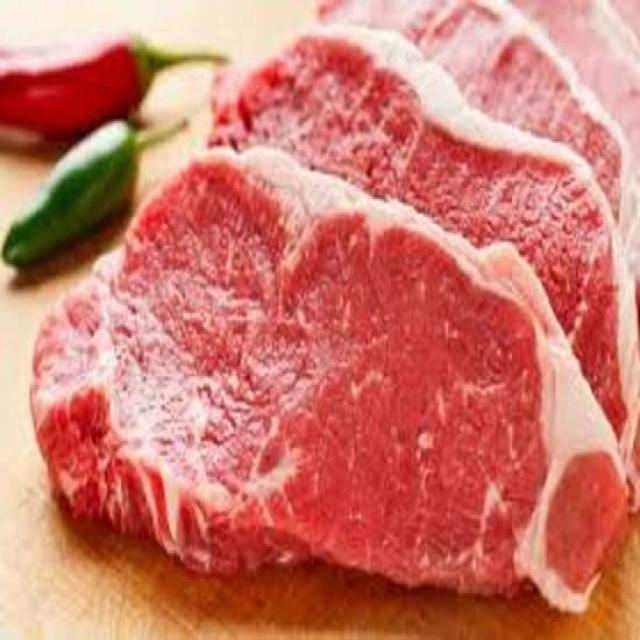beef: (20, 136, 640, 629)
